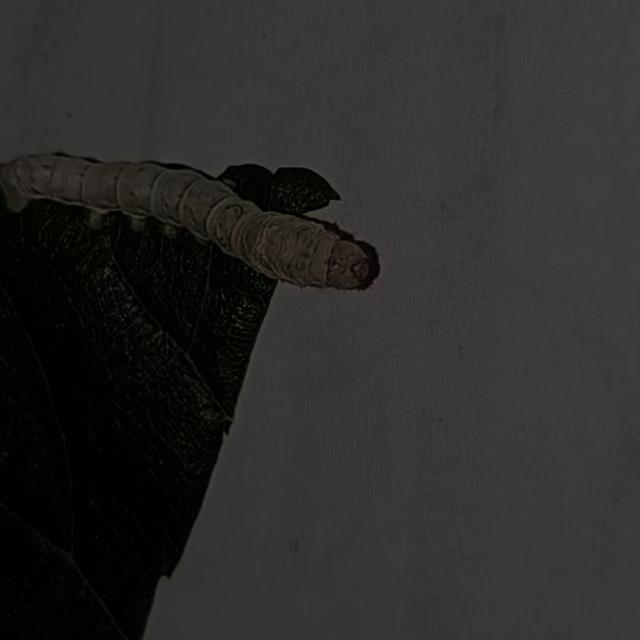Healthy: (2, 127, 398, 304)
